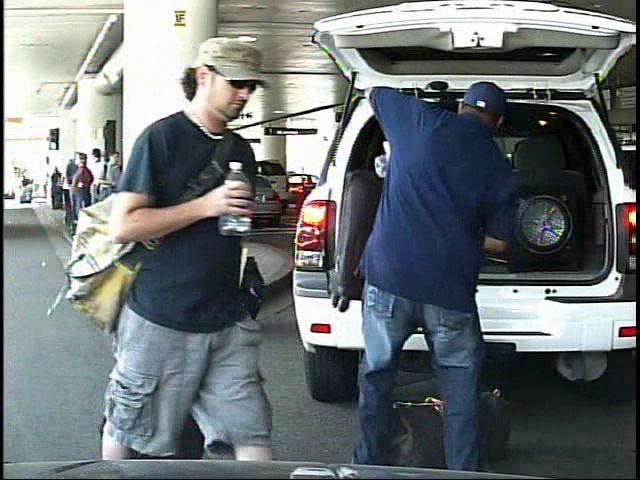person: (335, 45, 535, 479), (104, 22, 289, 480), (134, 124, 250, 348), (13, 174, 24, 205)
